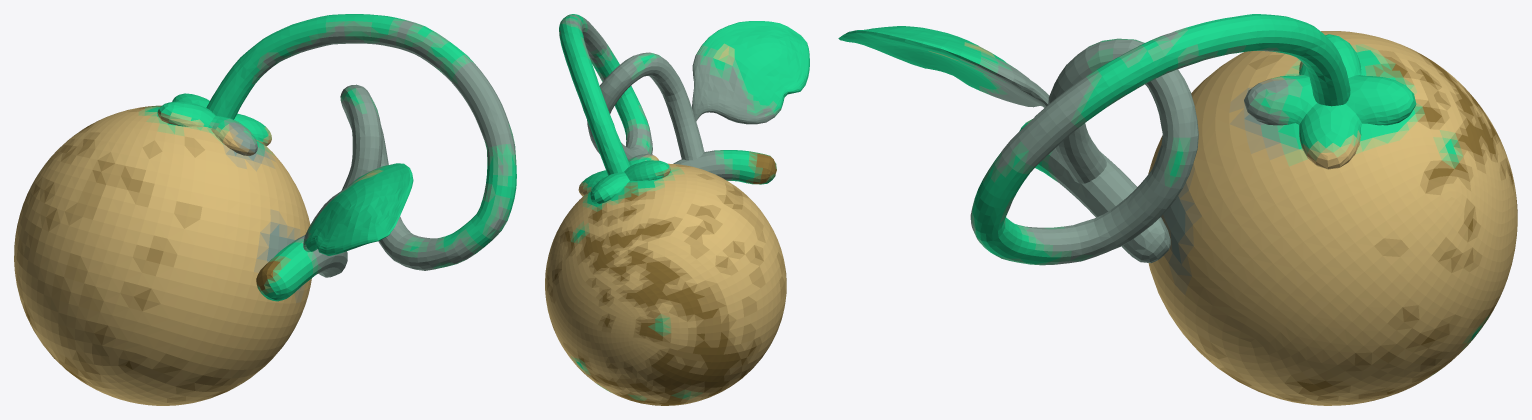
3 renders of one model, left to right at view 1: azimuth 30°, elevation 25°; view 2: azimuth 150°, elevation 25°; view 3: azimuth 270°, elevation 25°, orthographic. The views are drawn at different scales.
Visible parts, largest first — view 1: world; view 2: world; view 3: world.
Boxes of the visible parts, <box> form: world: <box>14,14,516,405</box>; world: <box>545,14,809,405</box>; world: <box>838,14,1517,405</box>.
Bounding box in the file's own units: 0.7546 × 0.7559 × 1.
